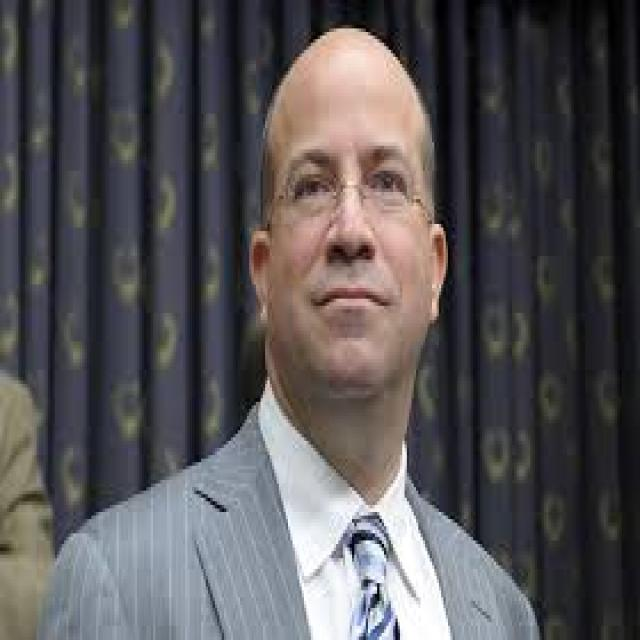normal_face: (238, 35, 473, 486)
